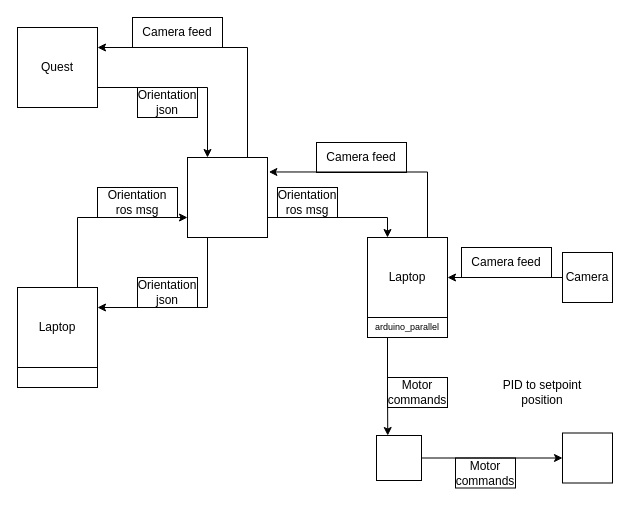
The diagram is 630 pixels wide and 506 high, and some of its shapes have lost their labels. Here are the shapes that lost their labels. From the top down, the box of each, then its label:
(186, 156, 268, 238): Router
(16, 366, 98, 388): Quest_bridge_node
(376, 434, 422, 480): Arduino
(562, 432, 612, 483): Servos
